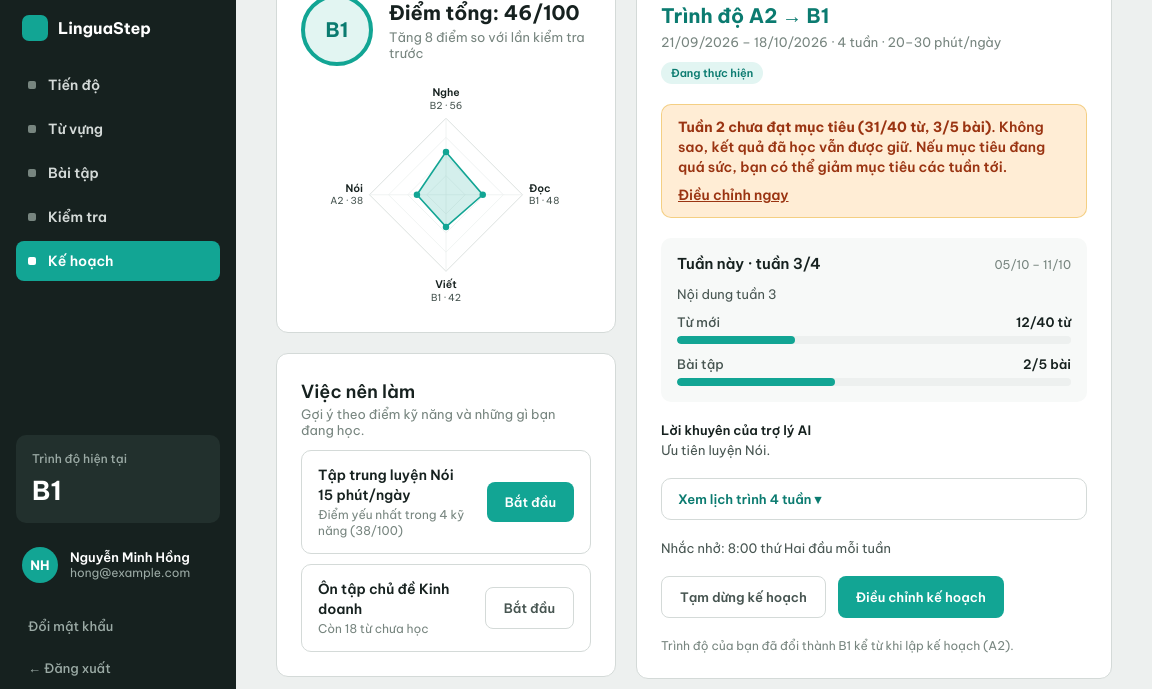
it: following a plan › asks before pausing, then ends the plan from the adjustment screen (scenario 18, branches 5a and 5b)
This screenshot has width=1152, height=689.
(page scrolled)
Click the button "Tạm dừng kế hoạch".
click(743, 597)  # box x1=661 y1=576 x2=826 y2=618
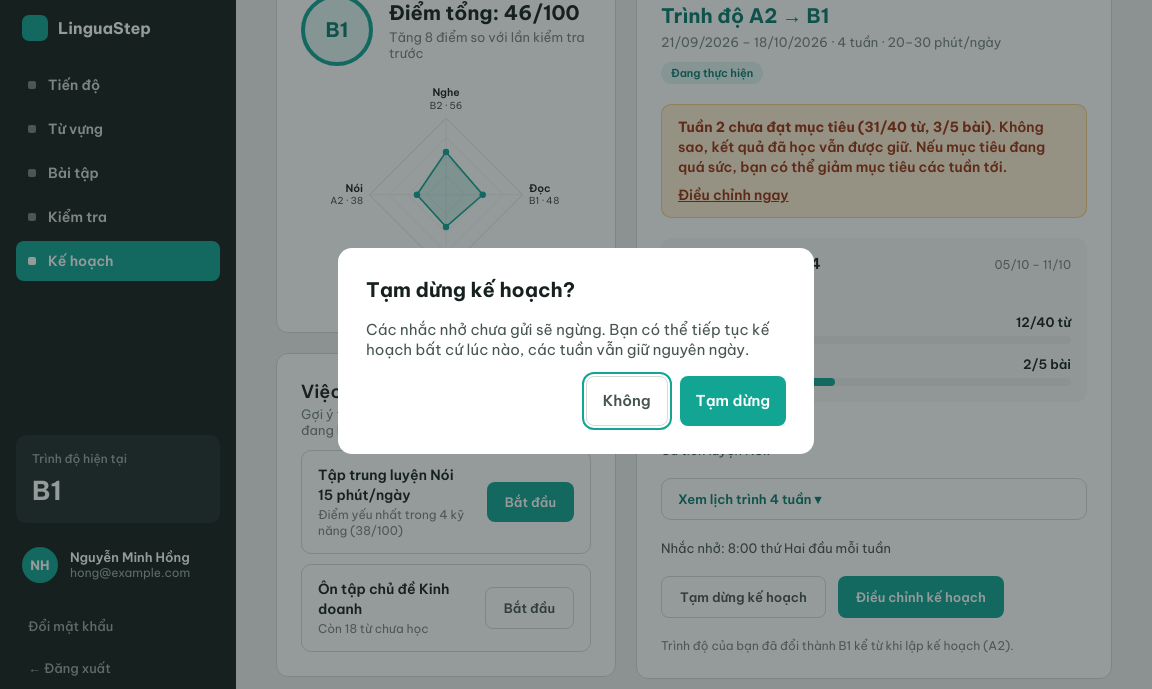
Click the button "Tạm dừng".
click(733, 401)  # box x1=680 y1=376 x2=786 y2=426
(page scrolled)
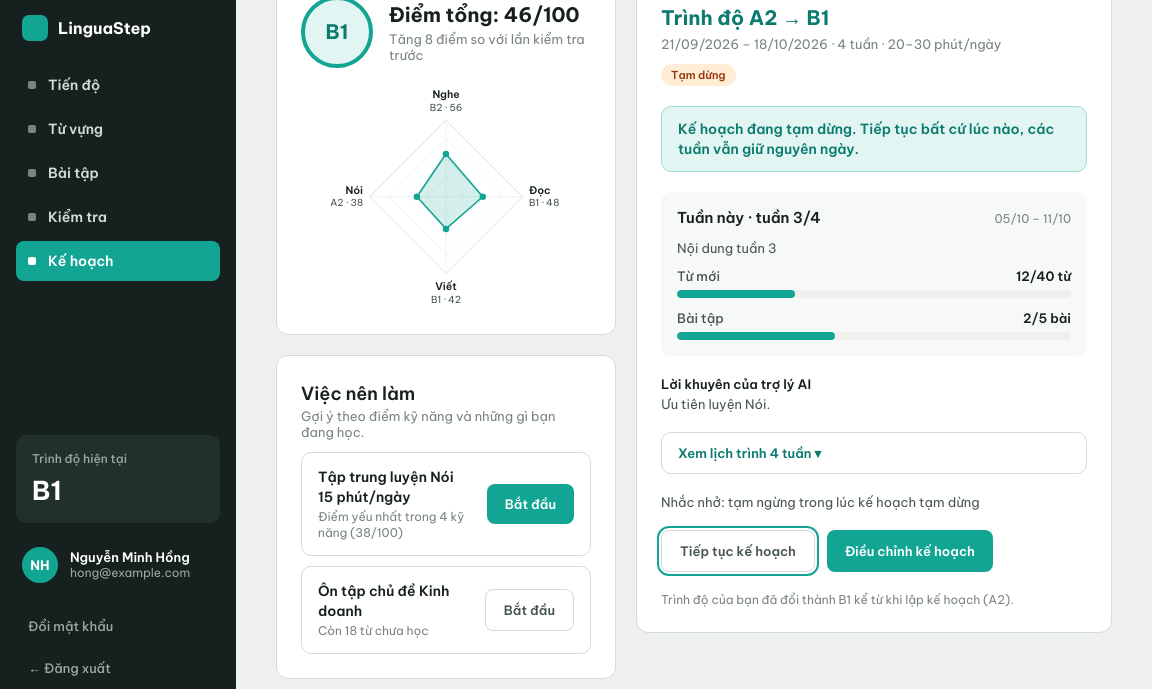
Expected: the button "Tiếp tục kế hoạch" is shown, x1=661 y1=530 x2=815 y2=572
Expected: the text "Kế hoạch đang tạm dừng. Tiếp tục bất cứ lúc nào, các tuần vẫn giữ nguyên ngày." is shown, x1=661 y1=106 x2=1087 y2=172
Expected: the text "Tuần 2 chưa đạt mục tiêu" is gone
Click the button "Điều chỉnh kế hoạch".
click(910, 551)  # box x1=827 y1=530 x2=993 y2=572
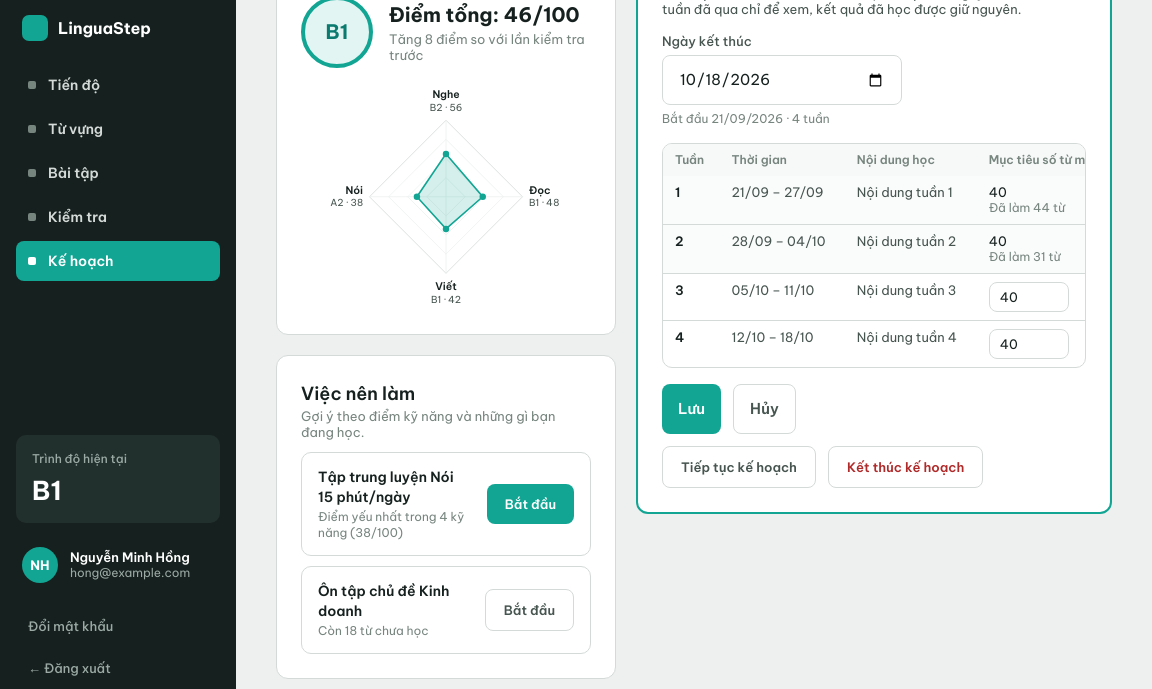
Click the button "Kết thúc kế hoạch".
click(906, 467)  # box x1=828 y1=446 x2=983 y2=488
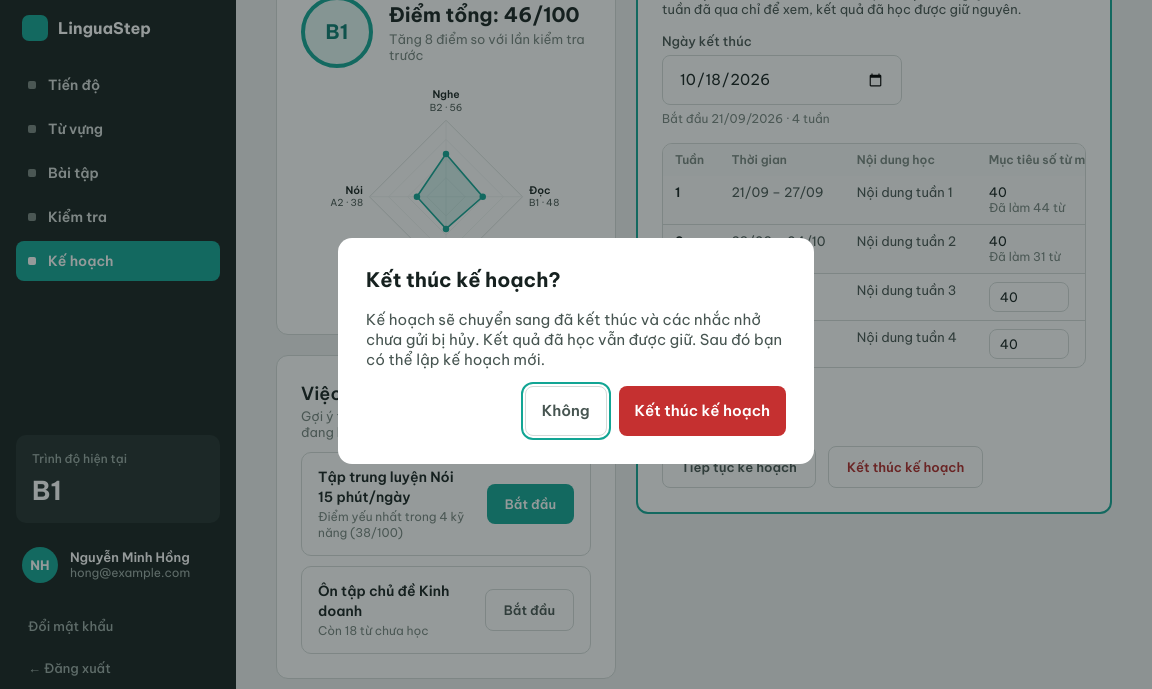
Click the button "Kết thúc kế hoạch".
click(702, 411)  # box x1=619 y1=386 x2=786 y2=436
(page scrolled)
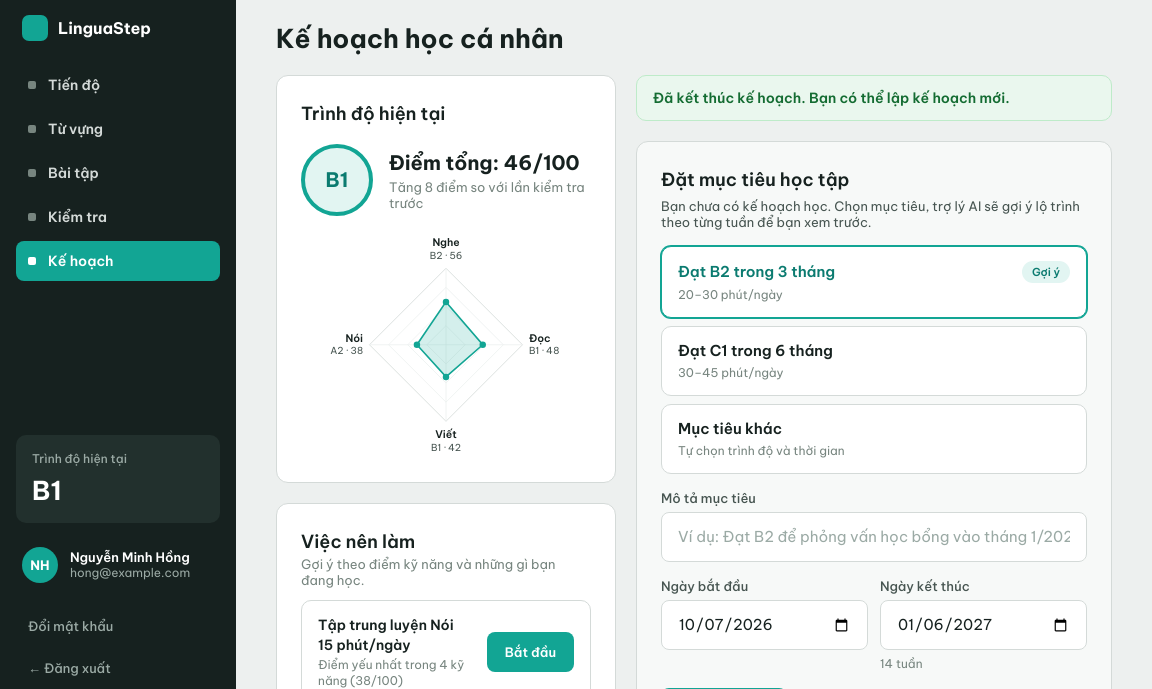
Expected: the text "Đã kết thúc kế hoạch. Bạn có thể lập kế hoạch mới." is shown, x1=636 y1=75 x2=1112 y2=121
Expected: the heading "Đặt mục tiêu học tập" is shown, x1=661 y1=168 x2=849 y2=191
